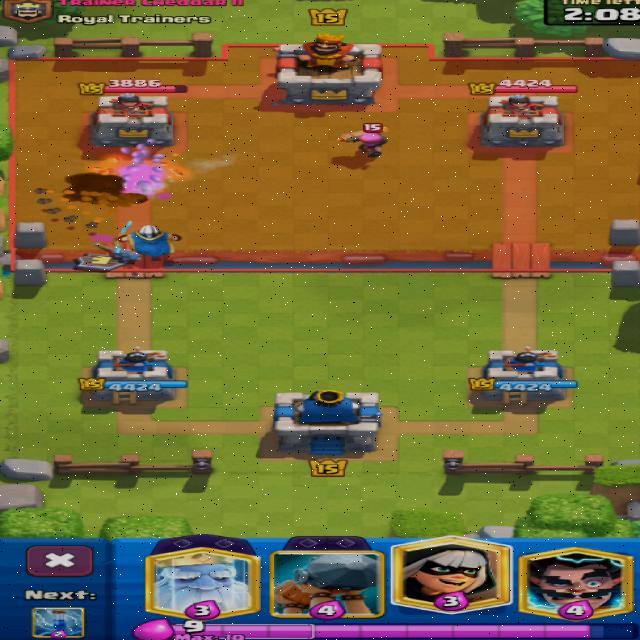Enemy-Firecracker: (340, 127, 386, 157)
Enemy-KingTower: (277, 34, 382, 106)
Enemy-PrincessTower: (480, 94, 564, 147), (90, 95, 173, 146)
Player-KingTower: (273, 390, 382, 455)
Player-MagicArcher: (117, 222, 181, 259)
Player-PrincessTower: (79, 348, 186, 405), (473, 347, 576, 403)
